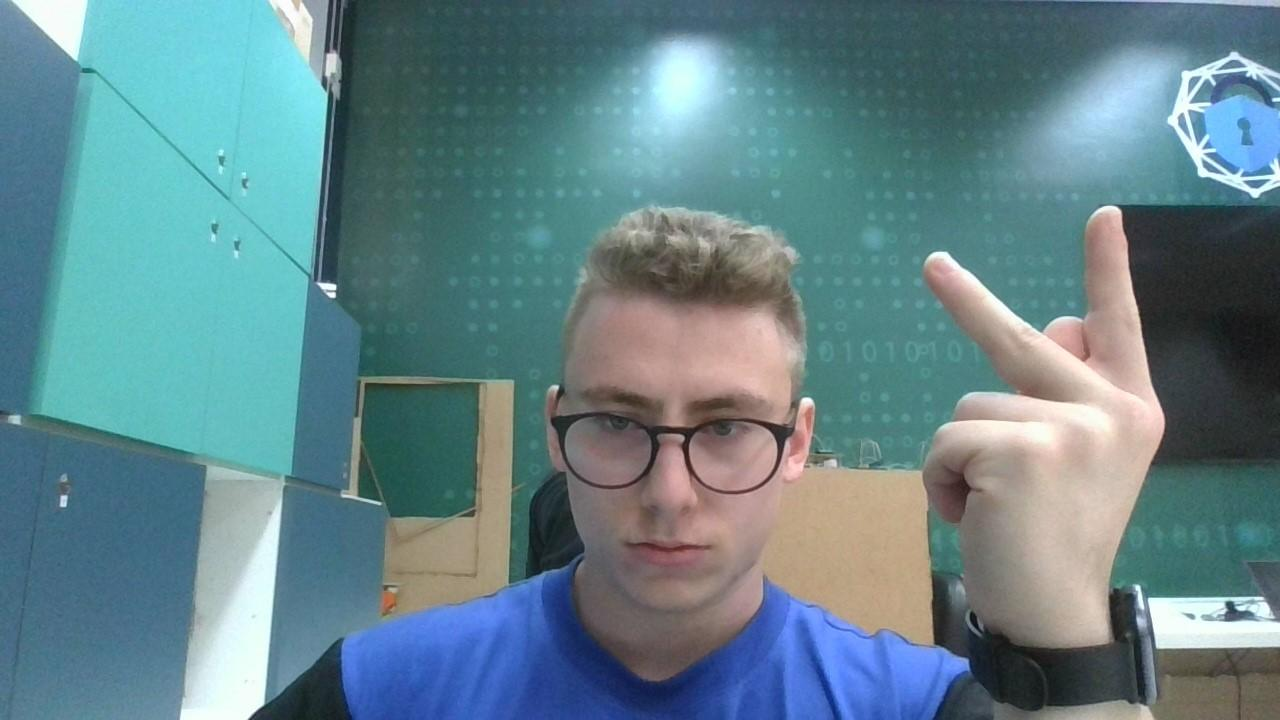K: (914, 204, 1170, 636)
